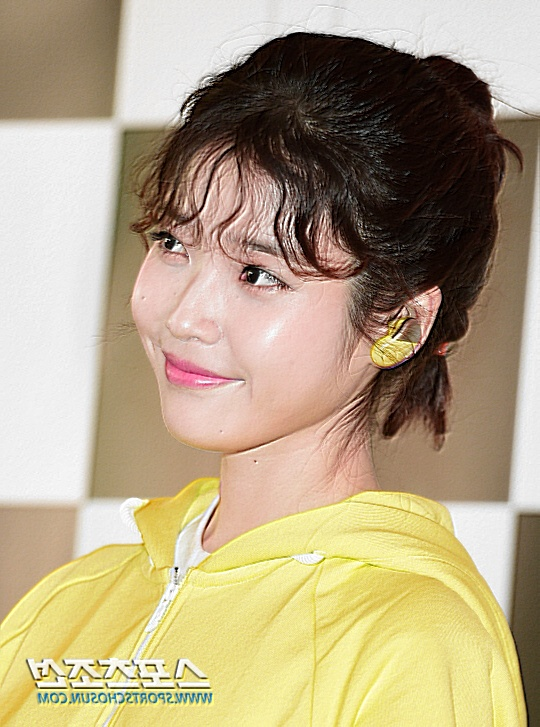earphone: (367, 285, 443, 370)
